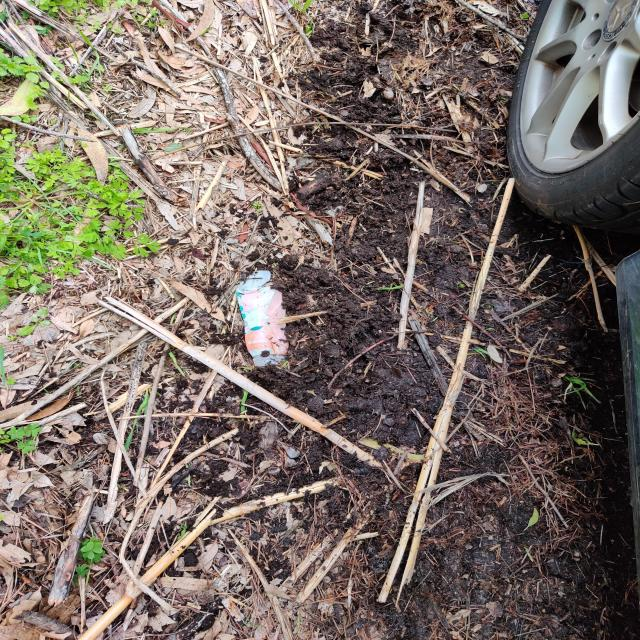litter: (237, 282, 290, 368)
